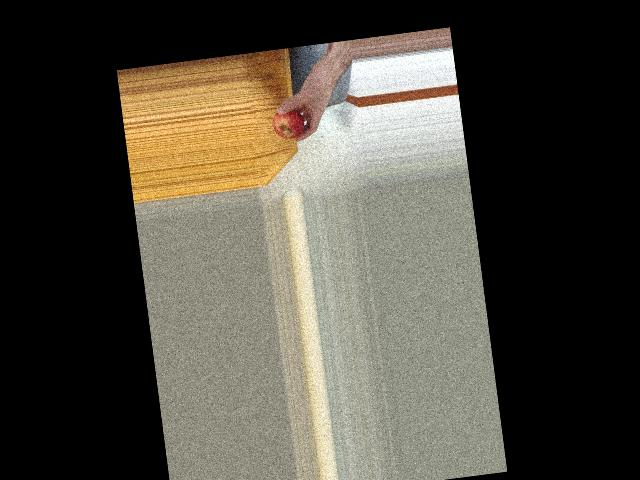apple: (269, 103, 306, 141)
